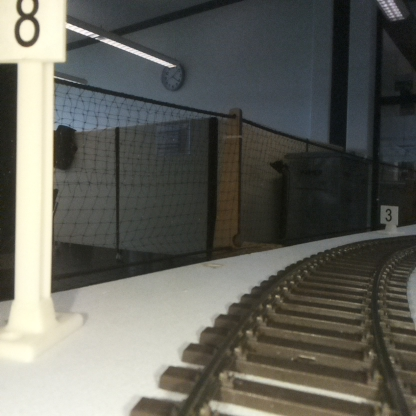white-stop-3: (380, 205, 398, 233)
